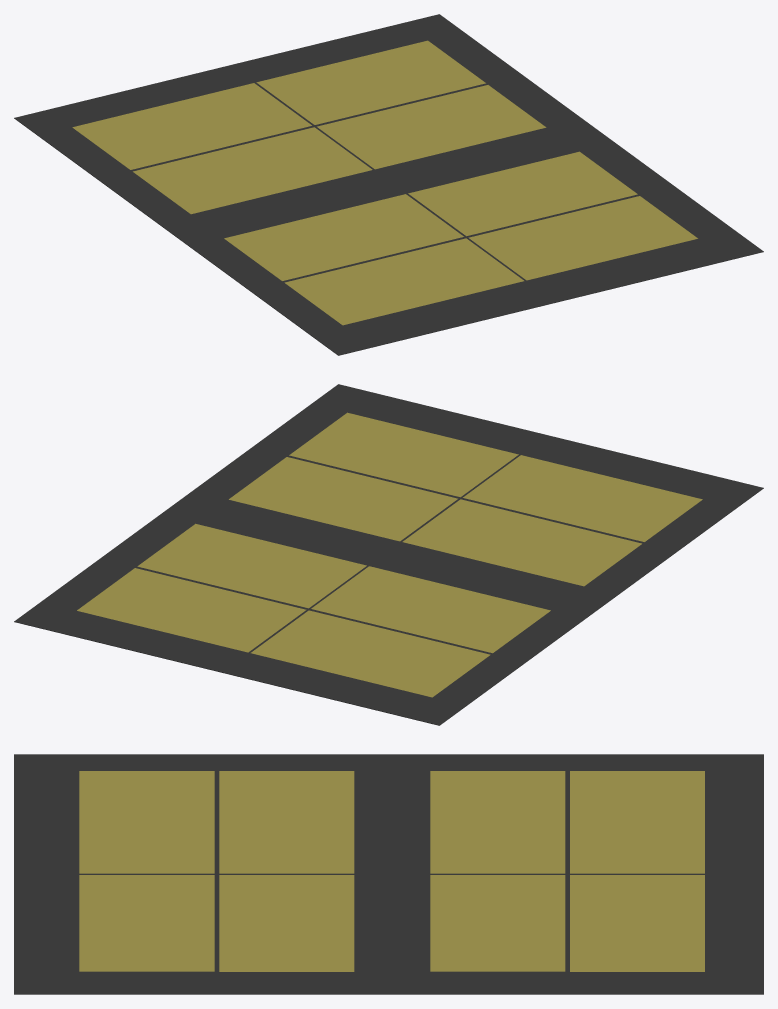
File: Lots2.fbx
The picture shows the model from 3 angles, top to bottom: view 1: azimuth 30°, elevation 25°; view 2: azimuth 150°, elevation 25°; view 3: azimuth 270°, elevation 25°; orthographic projection. The views are drawn at different scales.
Visible parts, largest first — view 1: Cube, Plane.001, Plane.002; view 2: Cube, Plane.001, Plane.002; view 3: Cube, Plane.002, Plane.001.
Boxes of the visible parts, x1,y1,x2,y2 form: Cube: [14, 14, 763, 355]; Plane.001: [72, 40, 546, 214]; Plane.002: [224, 151, 697, 325]; Cube: [14, 384, 763, 725]; Plane.001: [77, 523, 550, 697]; Plane.002: [229, 412, 702, 586]; Cube: [14, 754, 763, 994]; Plane.002: [79, 771, 354, 971]; Plane.001: [430, 771, 704, 971].
Size of the model in its own units: 2164 by 8.43 by 2858.
